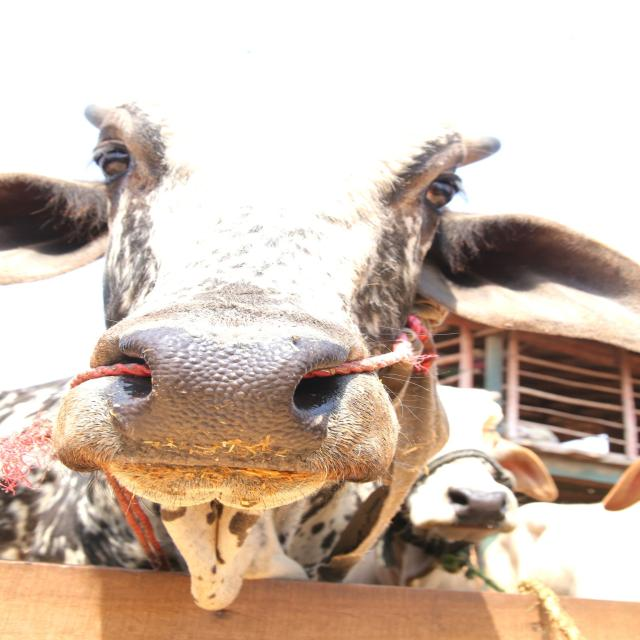muzzles: (100, 322, 357, 480), (440, 484, 516, 529)
